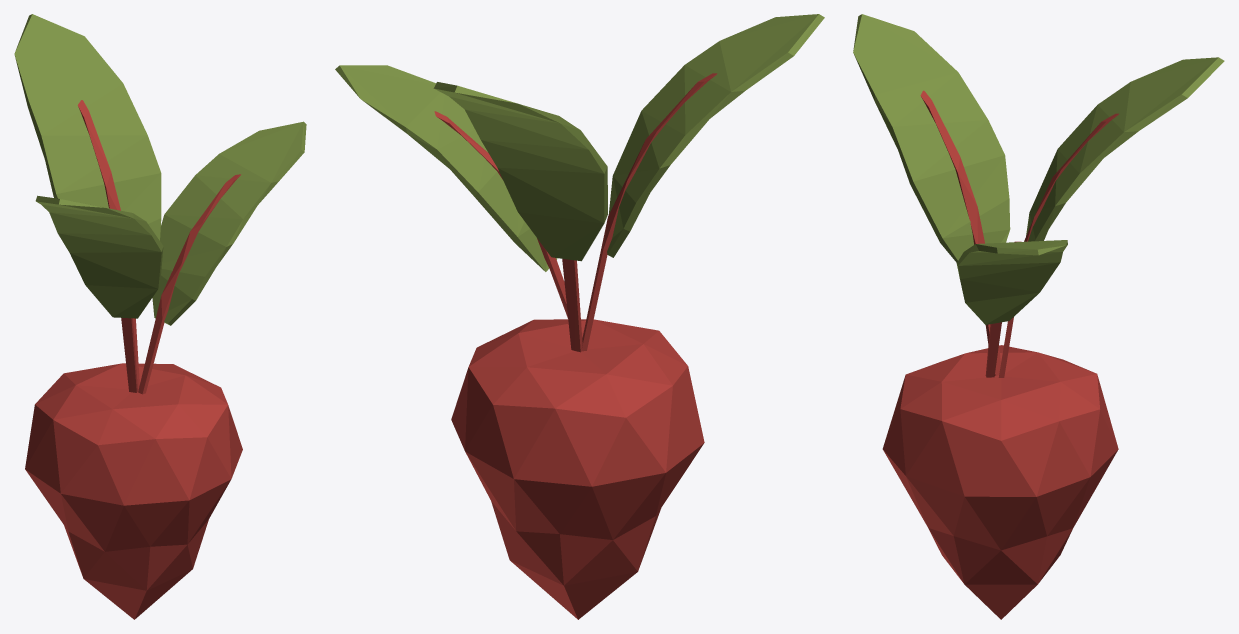
File: Beet_01.fbx
The picture shows the model from 3 angles, left to right: view 1: azimuth 30°, elevation 25°; view 2: azimuth 150°, elevation 25°; view 3: azimuth 270°, elevation 25°; orthographic projection. The views are drawn at different scales.
Visible parts, largest first — view 1: Beet_01; view 2: Beet_01; view 3: Beet_01.
Part boxes in pixels (box(x1,y1,x2,y2)): Beet_01: box(14, 14, 306, 619); Beet_01: box(335, 14, 824, 619); Beet_01: box(853, 14, 1224, 619).
Size of the model in its own units: 14.87 by 22.66 by 13.56.
